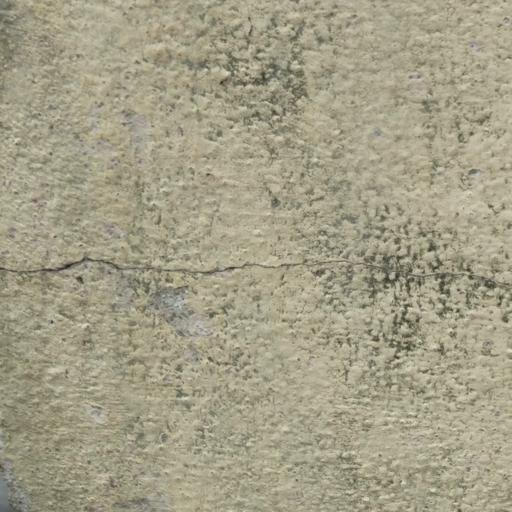minor_crack: (0, 231, 508, 292)
